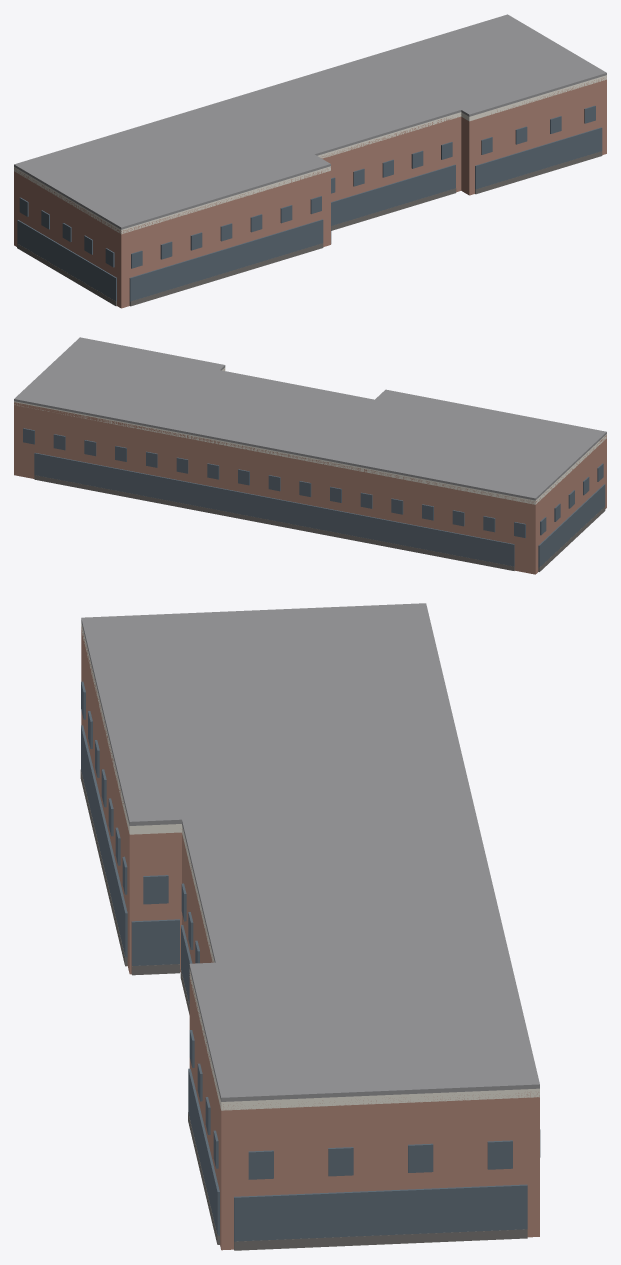
The model's file is s17_gis_247929_820785.glb.
3 views of the same model, one above another, from view 1: azimuth 30°, elevation 25°; view 2: azimuth 150°, elevation 25°; view 3: azimuth 270°, elevation 25° (orthographic). The views are drawn at different scales.
Visible parts, largest first — view 1: roofcap, mass, store_1, store_5, cornice, store_3, store_0, bulk_1, bulk_5, bulk_3, bulk_0; view 2: roofcap, mass, store_7, cornice, bulk_7, store_0, bulk_0; view 3: roofcap, mass, store_6, cornice, bulk_6, store_1, store_2, store_5.
Part boxes in pixels (box(x1,y1,x2,y2)): roofcap: box(14, 14, 606, 229); mass: box(14, 78, 606, 308); store_1: box(129, 219, 323, 303); store_5: box(475, 127, 602, 189); cornice: box(14, 75, 606, 234); store_3: box(331, 164, 455, 225); store_0: box(17, 220, 116, 301); bulk_1: box(129, 243, 323, 306); bulk_5: box(475, 151, 602, 194); bulk_3: box(331, 188, 456, 230); bulk_0: box(17, 243, 116, 306); roofcap: box(14, 337, 606, 500); mass: box(14, 369, 606, 574); store_7: box(34, 453, 514, 566); cornice: box(14, 367, 606, 504); bulk_7: box(34, 475, 514, 570); store_0: box(538, 484, 605, 567); bulk_0: box(538, 506, 605, 571); roofcap: box(81, 603, 539, 1101); mass: box(81, 627, 539, 1250); store_6: box(234, 1184, 527, 1245); cornice: box(81, 623, 539, 1110); bulk_6: box(234, 1229, 527, 1250); store_1: box(81, 725, 127, 962); store_2: box(131, 919, 179, 965); store_5: box(188, 1068, 219, 1237).
Size of the model in its own units: 58.25 by 8.35 by 22.83.
